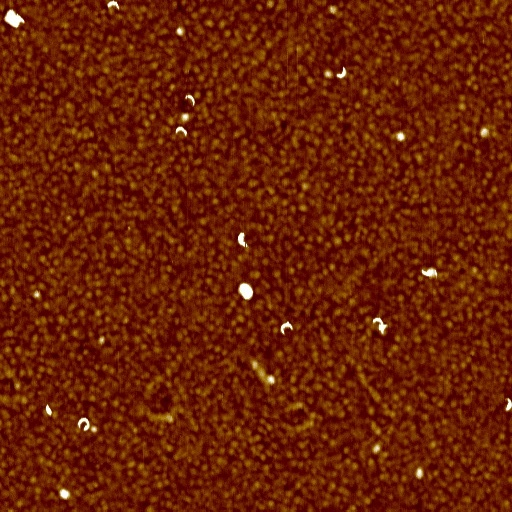-1: (1, 8, 29, 30), (237, 280, 256, 301), (418, 263, 439, 280), (58, 488, 72, 500), (43, 403, 54, 418), (415, 466, 426, 480), (397, 130, 405, 141)
1/4: (333, 64, 349, 82), (505, 394, 511, 415)
2/4: (370, 313, 388, 335), (236, 227, 250, 252), (181, 91, 200, 109), (171, 125, 191, 138), (279, 321, 295, 336), (101, 1, 124, 11)
3/4: (75, 416, 92, 432)
